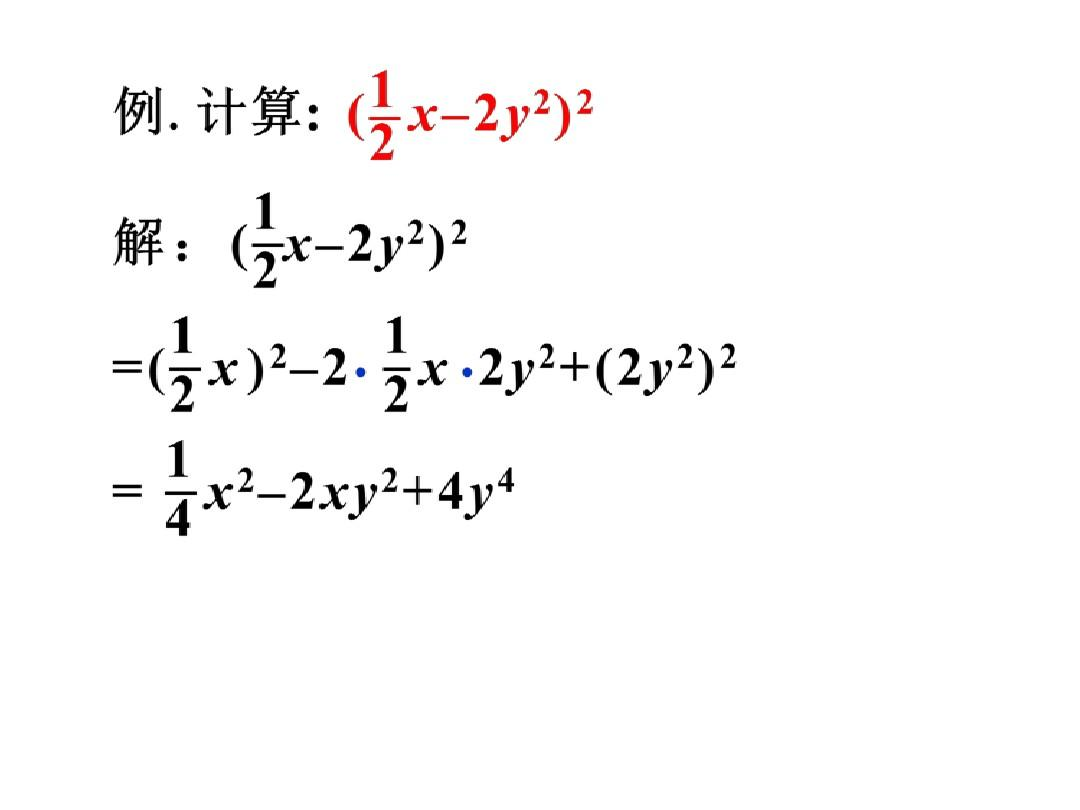division: (243, 236, 293, 254), (363, 112, 410, 126), (162, 484, 194, 500), (382, 361, 411, 378), (165, 363, 203, 374)
square: (568, 86, 597, 118), (532, 340, 562, 369), (445, 214, 471, 247), (714, 340, 739, 373), (531, 83, 555, 115), (402, 217, 425, 249), (378, 466, 400, 494), (675, 339, 693, 373), (267, 341, 286, 372), (237, 465, 257, 493)
